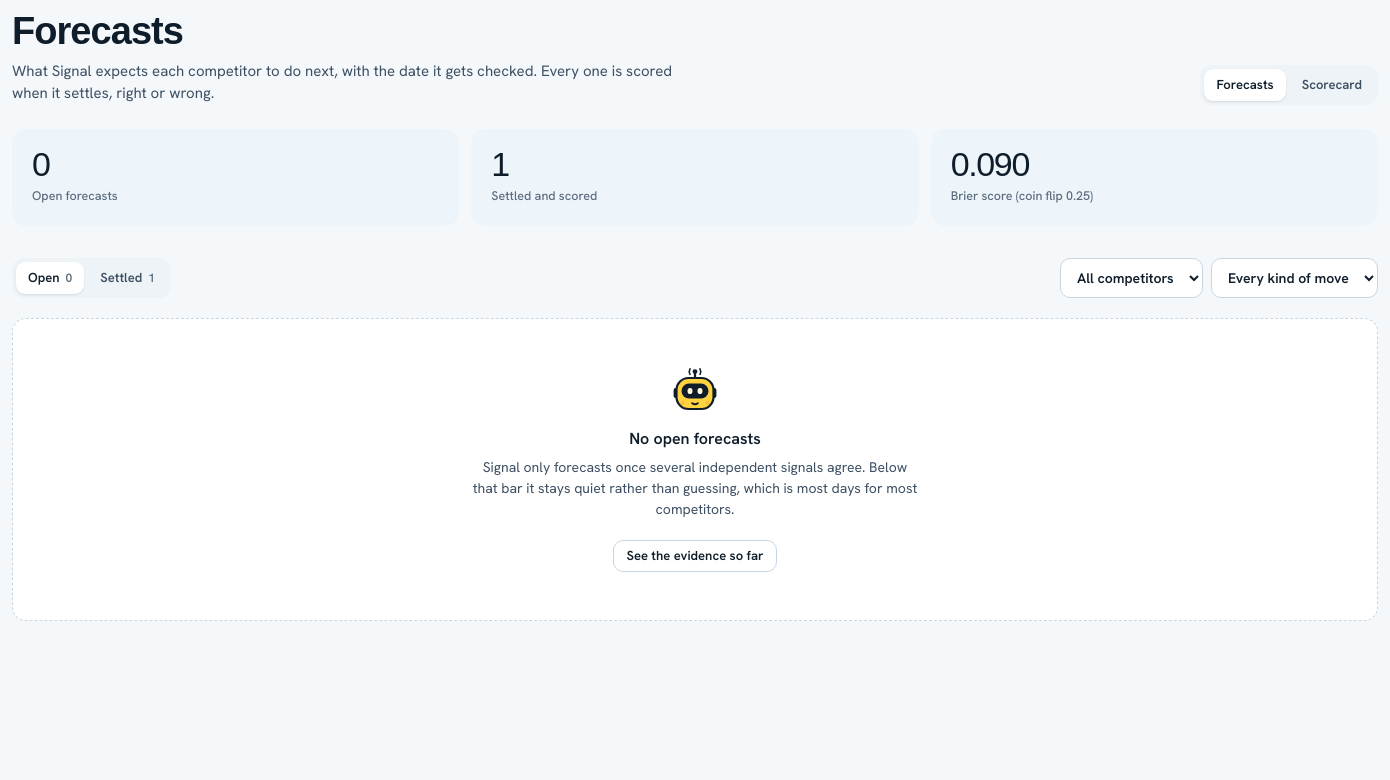
ForecastClient › shows settled forecasts with their outcome
Step 1. Click the tab "Settled 1" → x=128, y=278, box left=88, top=262, right=167, bottom=294
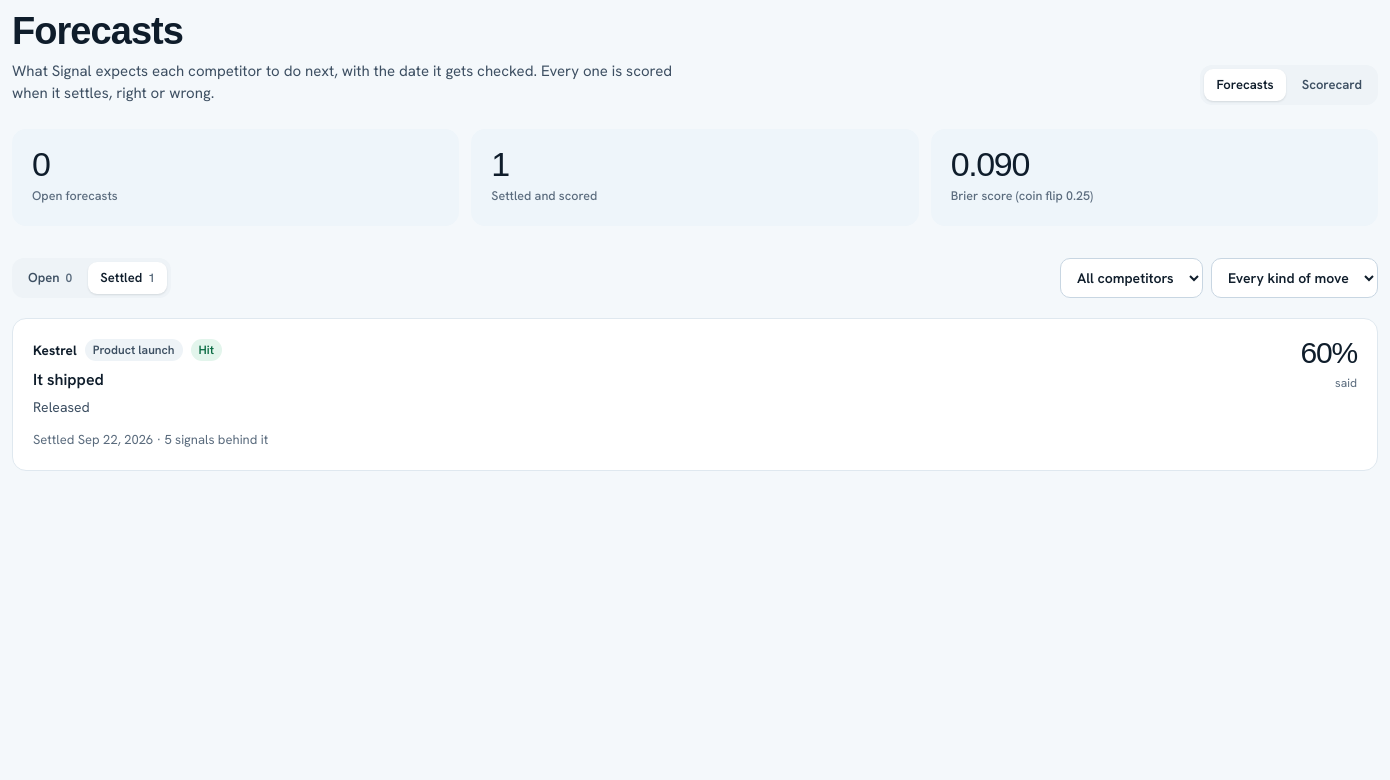
Expected: the text "0.090" is shown, left=951, top=145, right=1029, bottom=183
Expected: the text "Hit" is shown, left=190, top=339, right=222, bottom=361
